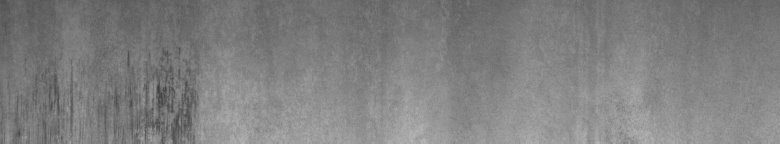ka: (4, 47, 204, 136)
